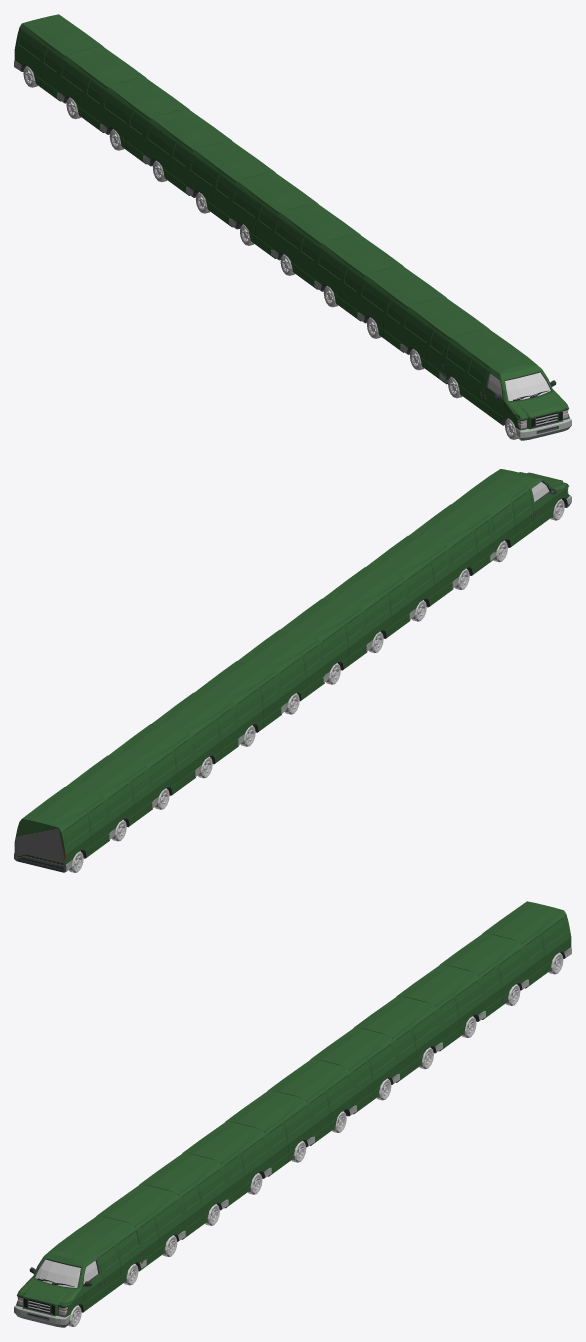
Rendered from Box_Car_Van_04.fbx.
3 views of the same model, one above another, from view 1: azimuth 30°, elevation 25°; view 2: azimuth 150°, elevation 25°; view 3: azimuth 330°, elevation 25° (orthographic).
Visible parts, largest first — view 1: Box_Car_Van_04_02, Box_Car_Van_04_03, Box_Car_Van_04_01; view 2: Box_Car_Van_04_02, Box_Car_Van_04_03; view 3: Box_Car_Van_04_02, Box_Car_Van_04_03, Box_Car_Van_04_01.
Boxes of the visible parts, x1=… form: Box_Car_Van_04_02: x1=14, y1=14, x2=571, y2=440; Box_Car_Van_04_03: x1=23, y1=66, x2=518, y2=439; Box_Car_Van_04_01: x1=487, y1=372, x2=550, y2=400; Box_Car_Van_04_02: x1=14, y1=469, x2=571, y2=872; Box_Car_Van_04_03: x1=68, y1=499, x2=564, y2=872; Box_Car_Van_04_02: x1=14, y1=901, x2=571, y2=1327; Box_Car_Van_04_03: x1=67, y1=952, x2=563, y2=1326; Box_Car_Van_04_01: x1=35, y1=1259, x2=98, y2=1287.
Size of the model in its own units: 208 by 173 by 2957.
